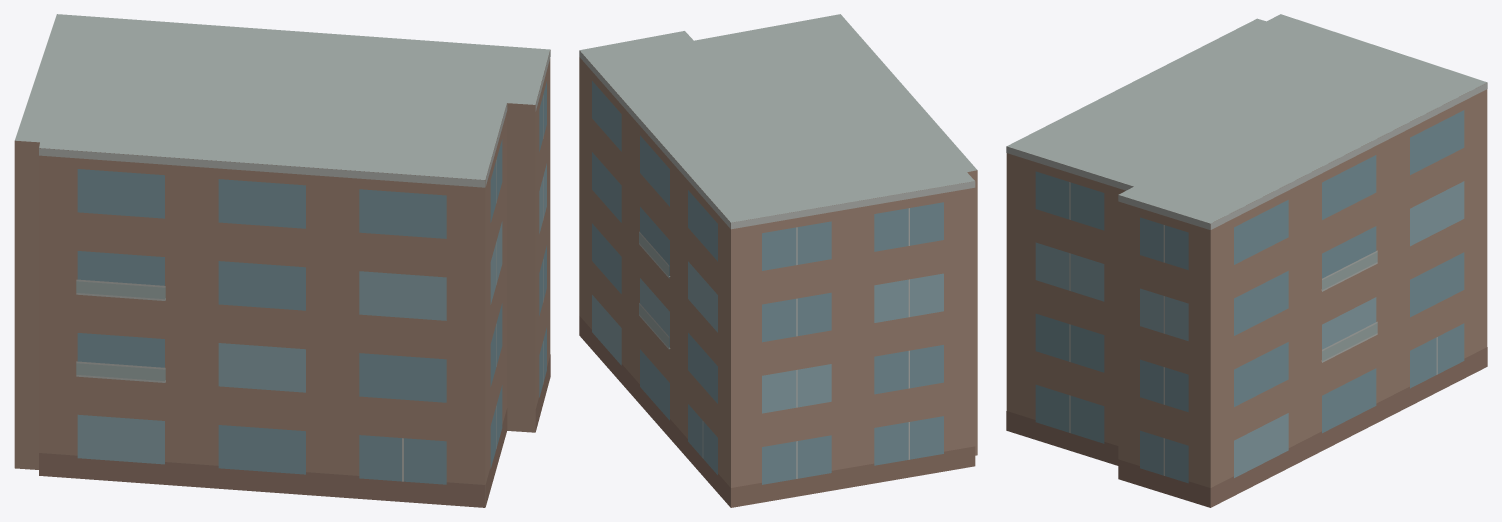
The model's file is survey-upis-32662234.glb.
3 views of the same model, side by side, from view 1: azimuth 30°, elevation 25°; view 2: azimuth 150°, elevation 25°; view 3: azimuth 270°, elevation 25° (orthographic). The views are drawn at different scales.
Visible parts, largest first — view 1: survey-upis-32662234.tmp; view 2: survey-upis-32662234.tmp; view 3: survey-upis-32662234.tmp.
Part boxes in pixels (x1,y1,x2,y2): survey-upis-32662234.tmp: (14,14,550,507); survey-upis-32662234.tmp: (579,14,977,507); survey-upis-32662234.tmp: (1006,14,1487,507).
Bounding box in the file's own units: 16.61 × 10.5 × 16.11.
